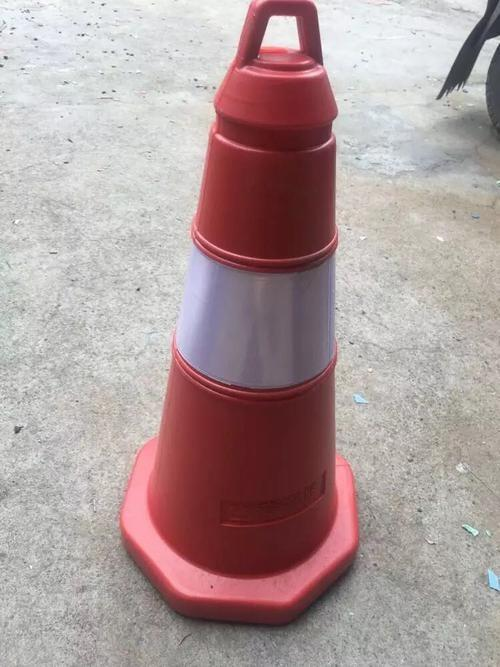cone_barrel: (121, 0, 374, 623)
